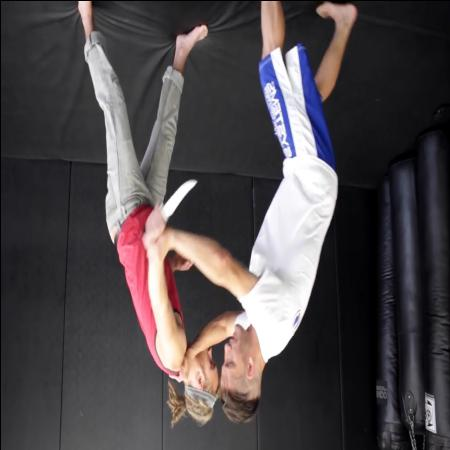long weapon: (139, 170, 201, 240)
